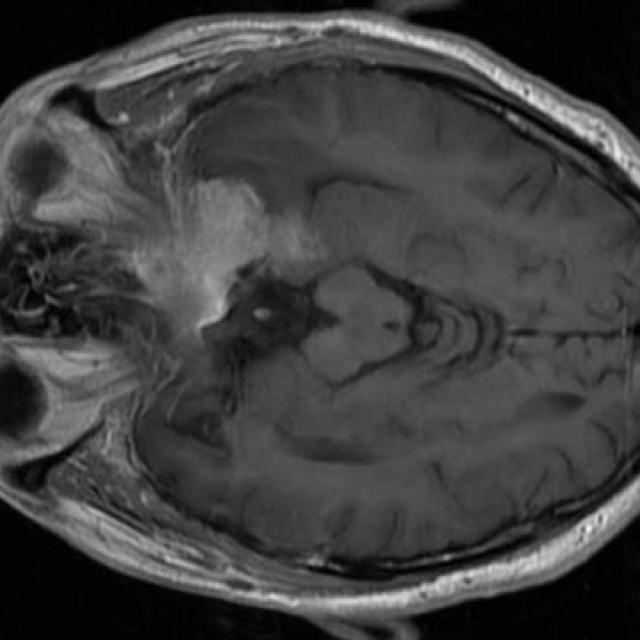meningioma: (153, 180, 317, 326)
